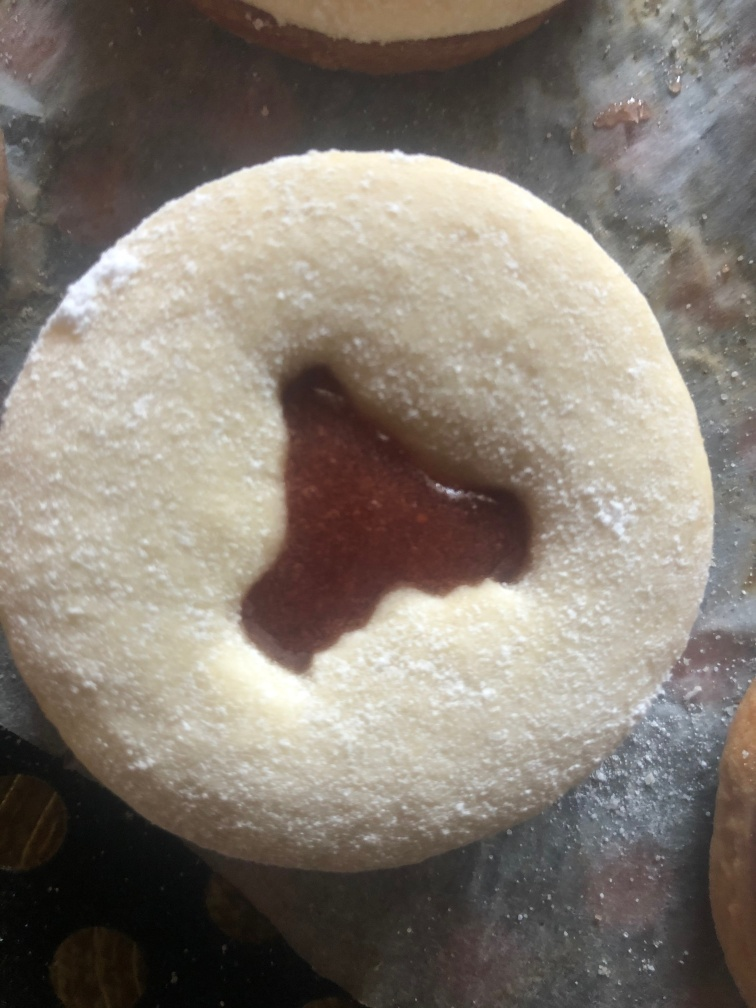christmas shortbread with jam: (5, 142, 713, 876)
